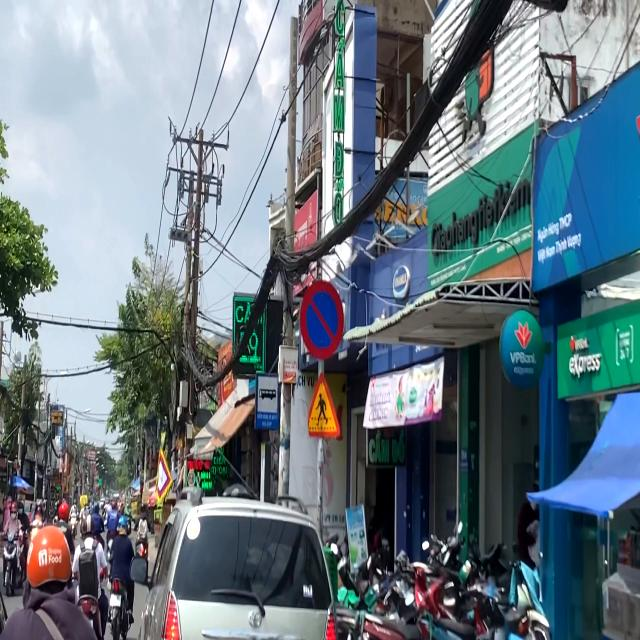P.131a: (299, 278, 344, 360)
W.224: (305, 368, 342, 444)
